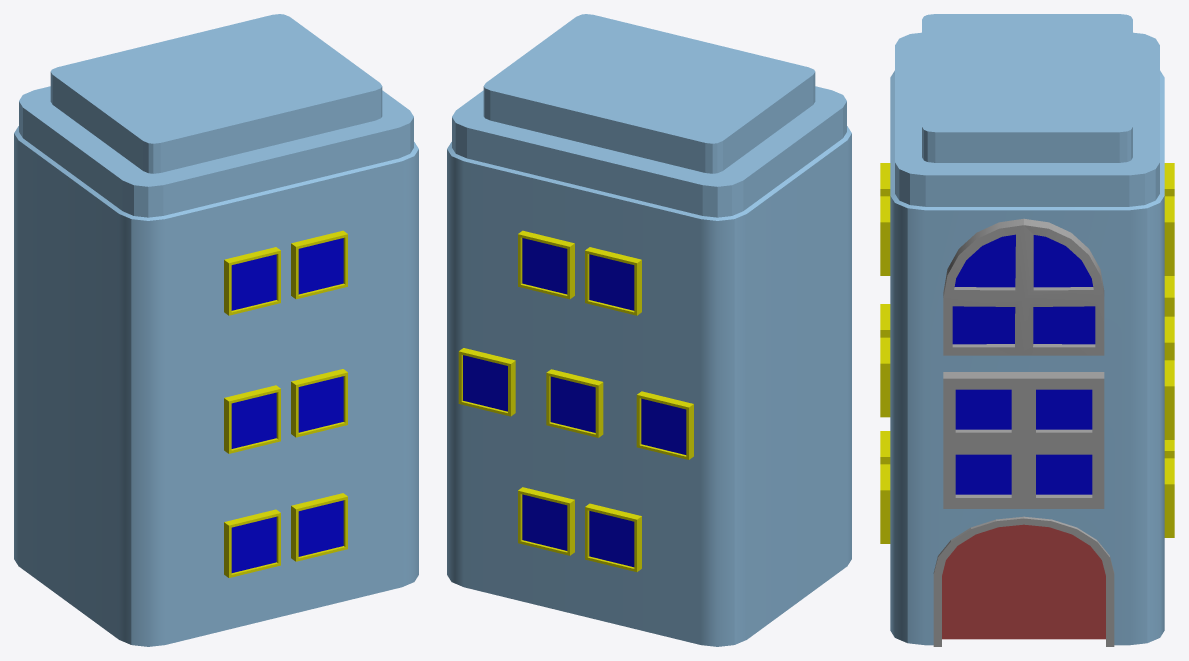
3 views of the same model, side by side, from view 1: azimuth 30°, elevation 25°; view 2: azimuth 150°, elevation 25°; view 3: azimuth 270°, elevation 25° (orthographic). The views are drawn at different scales.
Parts seen in each view (by area): view 1: polySurface32, polySurface120, polySurface103, polySurface118, polySurface119, polySurface121, polySurface102; view 2: polySurface32, polySurface116, polySurface124, polySurface117, polySurface122, polySurface37, polySurface38, polySurface123; view 3: polySurface32, pCube42, pCube43, polySurface33, polySurface118, polySurface38, polySurface102, polySurface116, polySurface120, polySurface122, polySurface124, polySurface117.
Part boxes in pixels (x1,y1,x2,y2): polySurface32: (14,14,418,646); polySurface120: (291,493,347,561); polySurface103: (224,247,280,315); polySurface118: (291,369,347,437); polySurface119: (224,385,280,453); polySurface121: (224,509,280,577); polySurface102: (291,230,347,299); polySurface32: (447,14,851,646); polySurface116: (458,348,515,416); polySurface124: (546,369,603,437); polySurface117: (636,391,693,459); polySurface122: (518,487,574,555); polySurface37: (585,247,641,315); polySurface38: (518,230,574,299); polySurface123: (585,503,641,571); polySurface32: (890,14,1164,645); pCube42: (943,372,1104,508); pCube43: (943,218,1104,355); polySurface33: (933,516,1114,646); polySurface118: (880,337,890,417); polySurface38: (1164,196,1174,275); polySurface102: (880,196,890,275); polySurface116: (1164,360,1174,439); polySurface120: (880,464,890,543); polySurface122: (1164,458,1174,537); polySurface124: (1164,316,1174,360); polySurface117: (1164,276,1174,316).
Size of the model in its own units: 3477 by 5235 by 2800.
